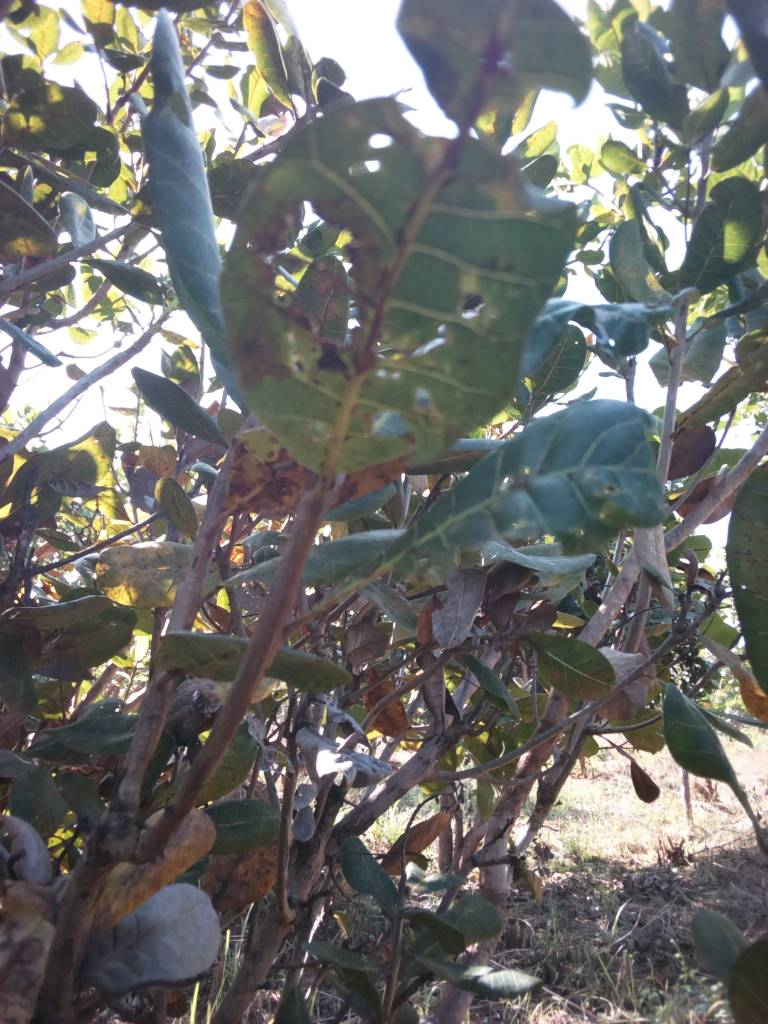Pestalotiose: (344, 397, 654, 571)
